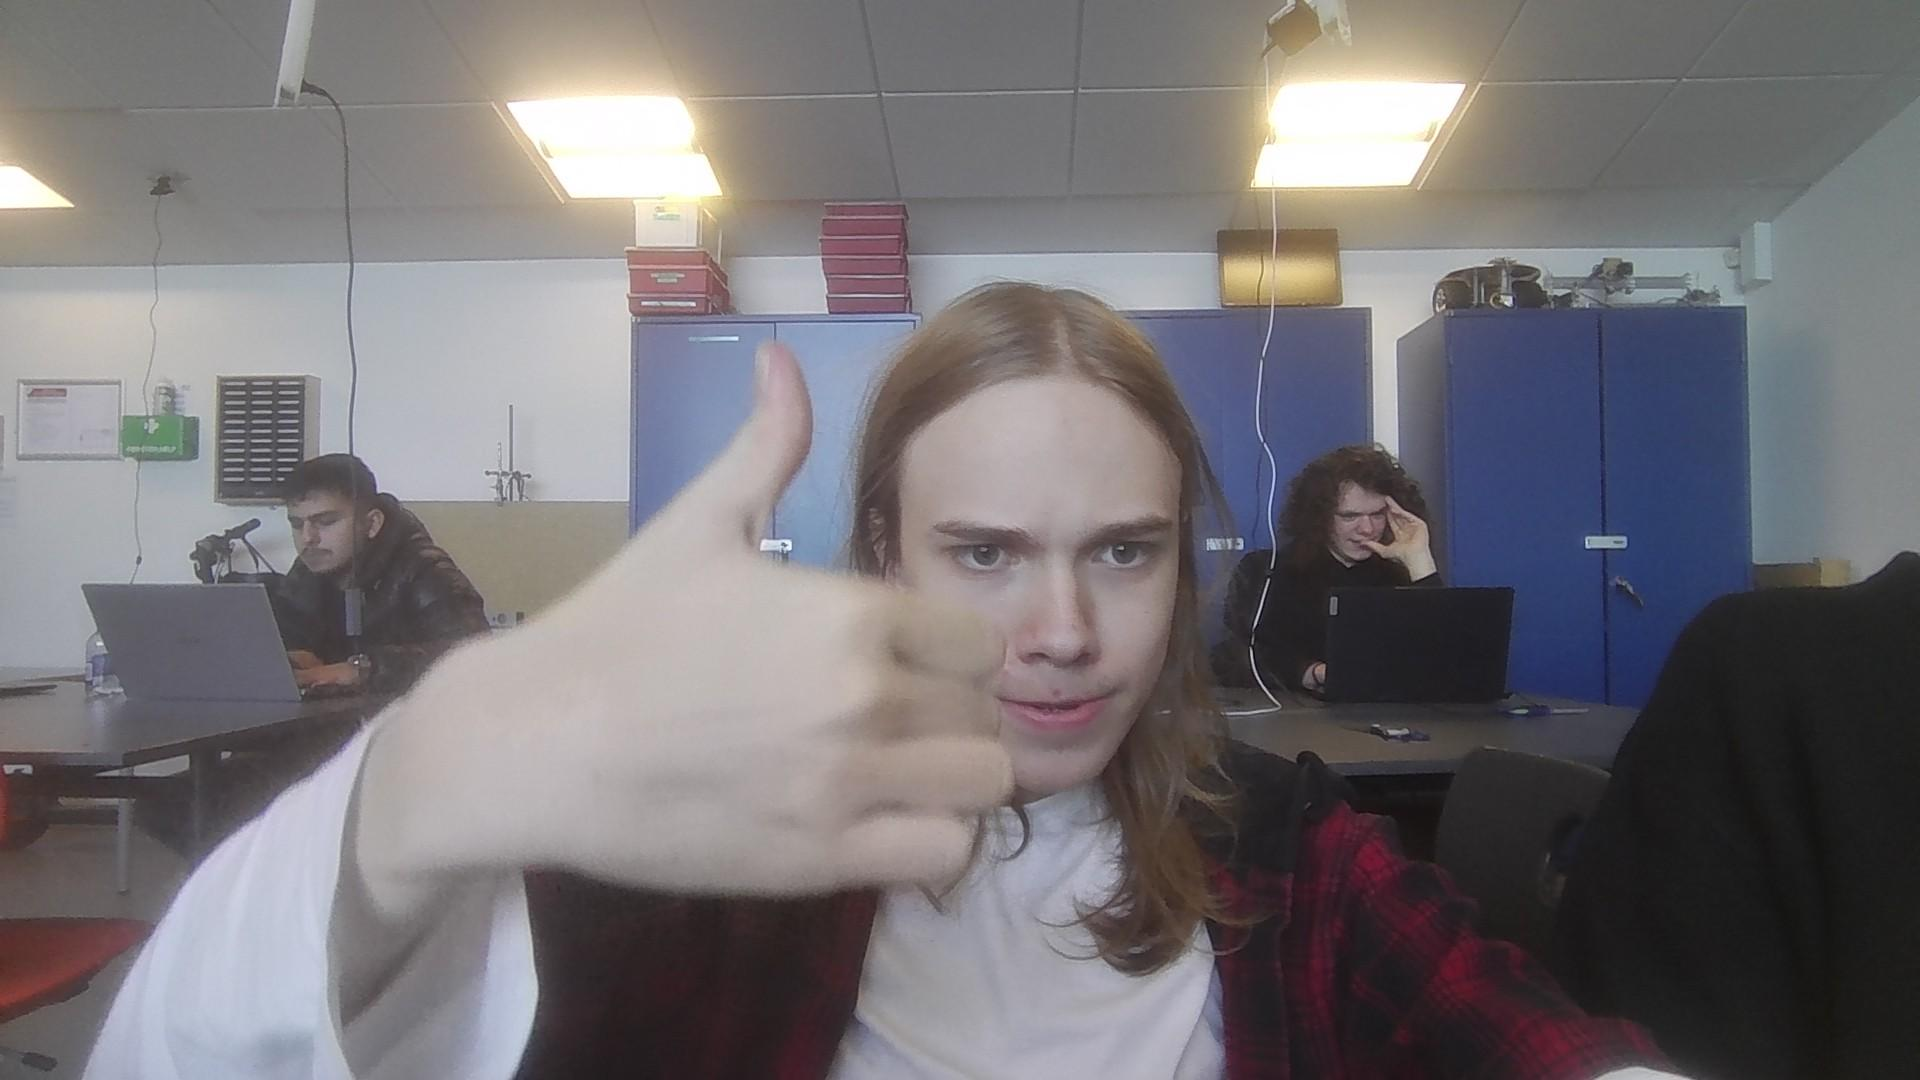thumbs up: (481, 339, 1027, 909)
